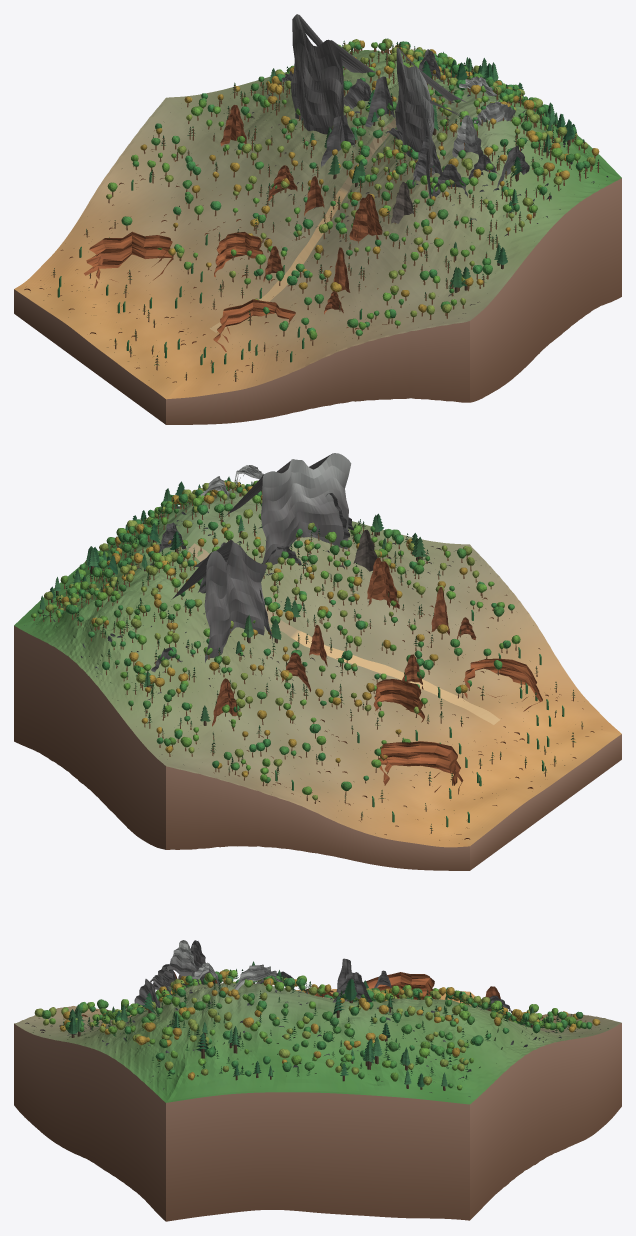
The picture shows the model from 3 angles, top to bottom: view 1: azimuth 30°, elevation 25°; view 2: azimuth 150°, elevation 25°; view 3: azimuth 270°, elevation 25°; orthographic projection.
Visible parts, largest first — view 1: terrain, hex_side_cut, ecotone_broadleaf_canopy, stratified_cliff_faces, angular_escarpments, sandstone_mesas, erosion_spires, biome_blend_trunks, ecotone_broadleaf_trunks, conifers, biome_blend_conifers, dry_streambed (+2 smaller); view 2: terrain, hex_side_cut, ecotone_broadleaf_canopy, stratified_cliff_faces, sandstone_mesas, erosion_spires, biome_blend_conifers, ecotone_broadleaf_trunks, conifers, dry_streambed, biome_blend_trunks, angular_escarpments (+2 smaller); view 3: hex_side_cut, terrain, ecotone_broadleaf_canopy, angular_escarpments, conifers, biome_blend_conifers, sandstone_mesas, loose_rocks, trunks.
Boxes of the visible parts, <box> form: terrain: <box>14,50,621,399</box>; hex_side_cut: <box>14,178,621,424</box>; ecotone_broadleaf_canopy: <box>106,38,599,339</box>; stratified_cliff_faces: <box>290,14,467,208</box>; angular_escarpments: <box>282,49,529,197</box>; sandstone_mesas: <box>84,231,295,352</box>; erosion_spires: <box>220,105,413,314</box>; biome_blend_trunks: <box>53,43,598,381</box>; ecotone_broadleaf_trunks: <box>108,48,595,345</box>; conifers: <box>268,56,576,287</box>; biome_blend_conifers: <box>53,38,600,379</box>; dry_streambed: <box>210,92,434,332</box>; terrain: <box>14,490,621,847</box>; hex_side_cut: <box>14,625,621,870</box>; ecotone_broadleaf_canopy: <box>31,480,520,800</box>; stratified_cliff_faces: <box>171,453,351,662</box>; sandstone_mesas: <box>373,658,542,794</box>; erosion_spires: <box>212,529,476,726</box>; biome_blend_conifers: <box>42,480,583,830</box>; ecotone_broadleaf_trunks: <box>33,487,516,803</box>; conifers: <box>39,476,427,721</box>; dry_streambed: <box>188,543,500,724</box>; biome_blend_trunks: <box>43,486,582,833</box>; angular_escarpments: <box>151,465,353,672</box>; hex_side_cut: <box>14,1023,621,1221</box>; terrain: <box>14,983,621,1104</box>; ecotone_broadleaf_canopy: <box>34,969,600,1090</box>; angular_escarpments: <box>134,940,512,1012</box>; conifers: <box>67,961,534,1087</box>; biome_blend_conifers: <box>60,969,571,1085</box>; sandstone_mesas: <box>304,972,436,999</box>; loose_rocks: <box>25,983,600,1096</box>; trunks: <box>71,982,533,1090</box>.
Size of the model in its own units: 4330 by 2355 by 5000.
